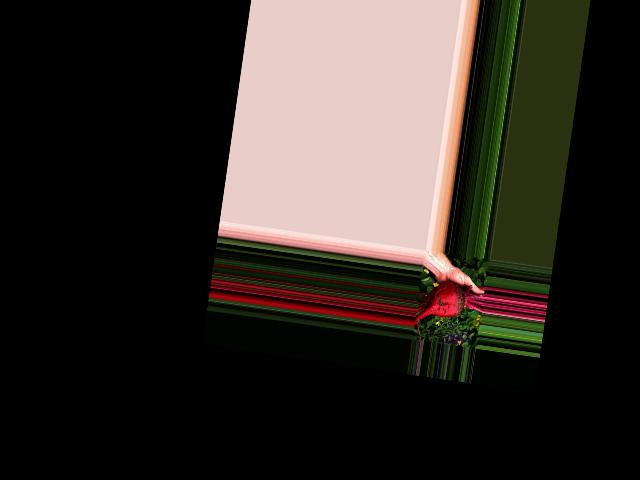beet: (413, 277, 486, 335)
